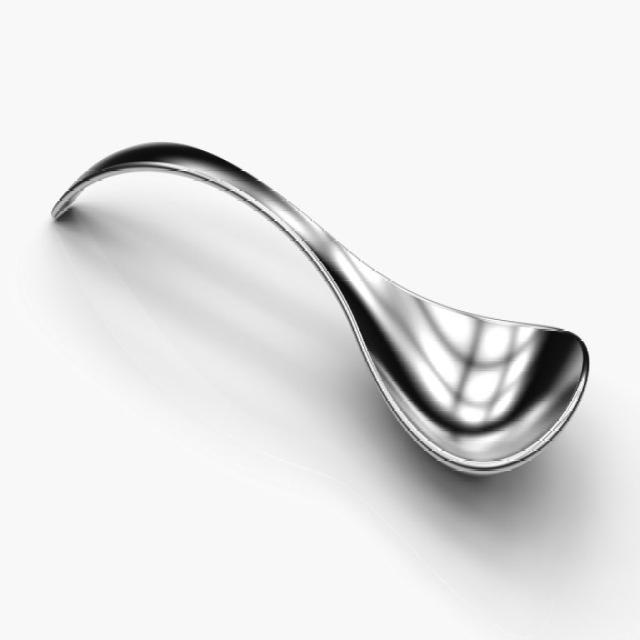spoon: (48, 137, 593, 490)
